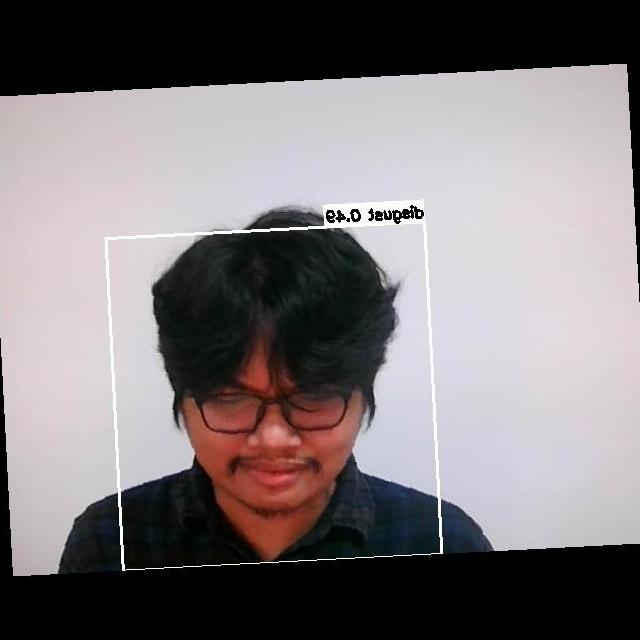Fear: (179, 349, 364, 509)
